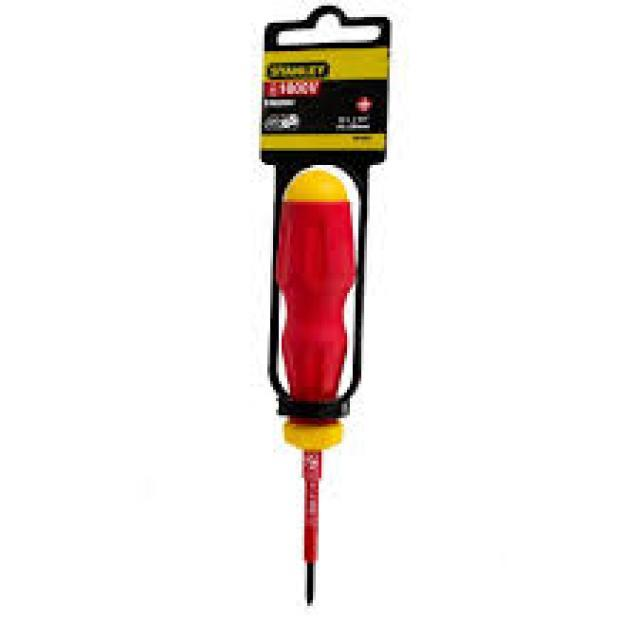screwdriver: (270, 162, 358, 609)
